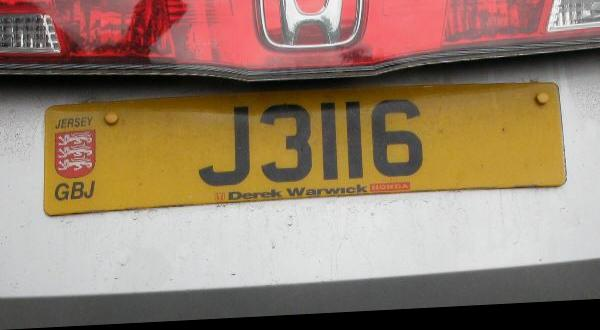License_Plate: (39, 71, 575, 220)
